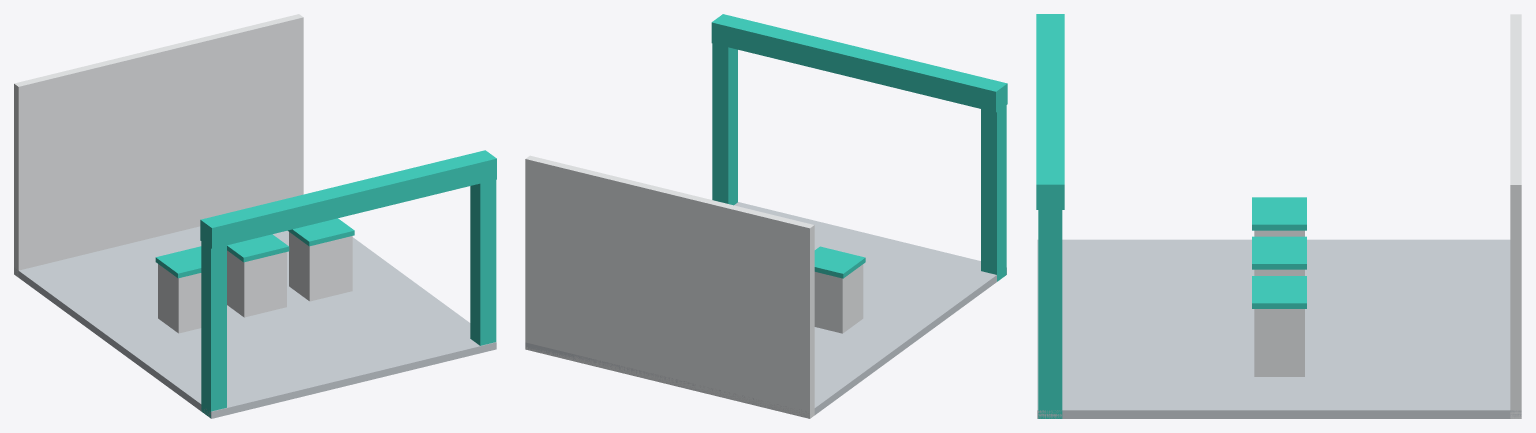
The picture shows the model from 3 angles, left to right: view 1: azimuth 30°, elevation 25°; view 2: azimuth 150°, elevation 25°; view 3: azimuth 270°, elevation 25°; orthographic projection. The views are drawn at different scales.
Parts seen in each view (by area): view 1: Exhibition Booth Concept; view 2: Exhibition Booth Concept; view 3: Exhibition Booth Concept.
Part boxes in pixels (x1,y1,x2,y2): Exhibition Booth Concept: (14, 14, 496, 418); Exhibition Booth Concept: (525, 14, 1007, 418); Exhibition Booth Concept: (1036, 14, 1521, 418).
Bounding box in the file's own units: 5 × 3.2 × 6.02.
